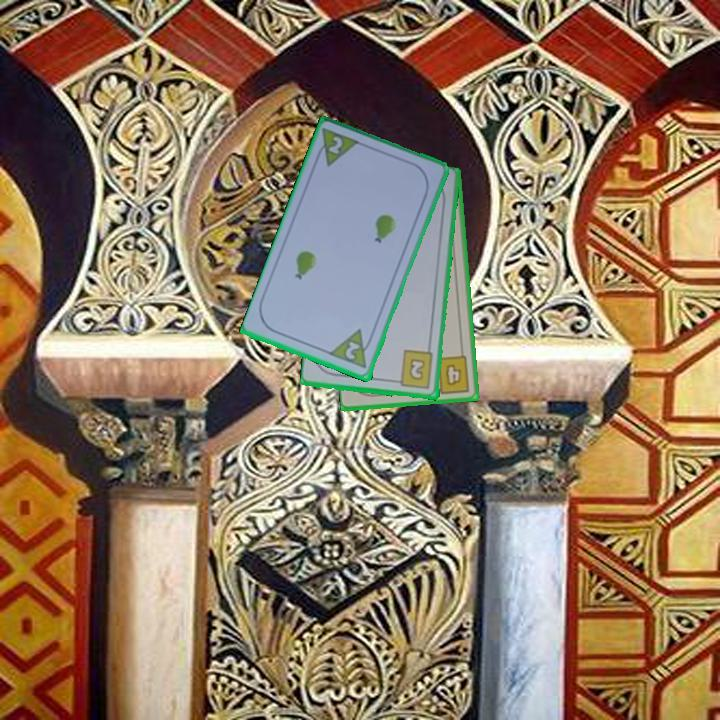2b: (391, 348, 436, 392)
2p: (311, 125, 363, 170), (342, 338, 363, 363)
4b: (430, 352, 472, 396)
